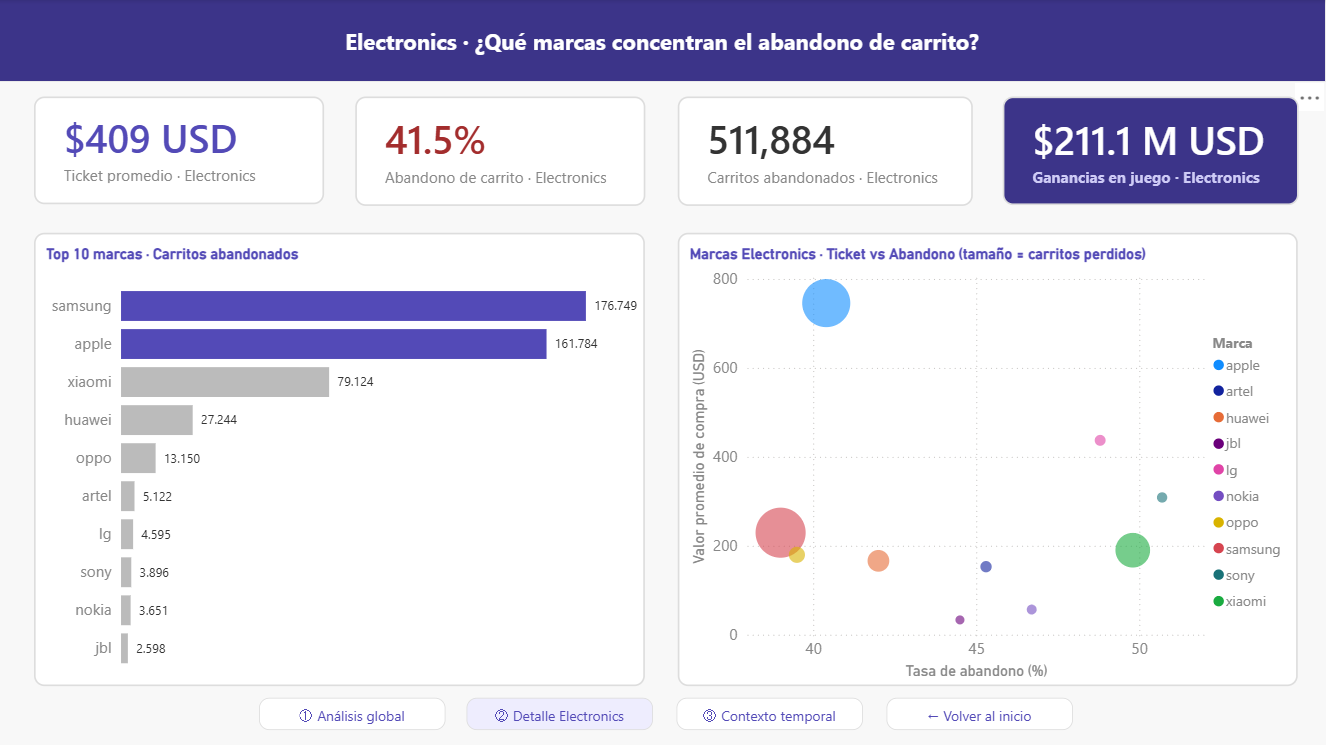

Layout of this report page (visuals, bound fields, positions):
{"tool":"powerbi","page":{"name":"Electronics","canvas":[1280,720],"ordinal":3},"visuals":[{"type":"cardVisual","fields":{"Data":["agg_revenue_en_juego.03_Ticket_electronics"]},"box":[708,148.9,260,103.8],"z":0},{"type":"cardVisual","fields":{"Data":["agg_revenue_en_juego.Revenue Electronics"]},"box":[979,148.9,273.4,103.8],"z":1000},{"type":"clusteredBarChart","title":"Top 10 marcas · Carritos abandonados","fields":{"Category":["agg_marca_electronics.brand"],"Y":["agg_marca_electronics.01_Pct Abandonados Filtrado"]},"box":[133.9,148.4,545,490],"z":2000},{"type":"shape","box":[107.4,0,1172.7,79.6],"z":3000},{"type":"shape","box":[107.4,654.3,1173.1,65.9],"z":4000},{"type":"textbox","box":[917.4,99.7,166.5,30.2],"z":5000},{"type":"shape","box":[917.4,92.4,336.6,44.6],"z":6000},{"type":"slicer","title":"Filtro Top N Categorías","fields":{"Values":["Top N Marcas.Top N Marcas"]},"box":[1068.9,94.1,184.6,41],"z":7000},{"type":"textbox","box":[1050.8,313.7,197.9,36.2],"z":8000},{"type":"shape","box":[0,0,213.6,720.2],"z":9000},{"type":"textbox","box":[3.7,22,96.4,36.6],"z":10000},{"type":"scatterChart","title":"Valor promedio de compra vs Abandono","fields":{"X":["agg_marca_electronics.04_Abandono Filtrado Scatter"],"Series":["agg_marca_electronics.brand"],"Size":["Sum(agg_marca_electronics.abandonados)"],"Y":["agg_marca_electronics.03_Ticket Filtrado"]},"box":[708,261.2,544.4,377.2],"z":11000},{"type":"actionButton","box":[7.3,98.9,90.3,59.8],"z":12000},{"type":"actionButton","box":[7.3,272.2,90.3,61],"z":13000},{"type":"actionButton","box":[7.3,540.8,91.6,61],"z":14000},{"type":"actionButton","box":[7.3,451.7,90.3,61],"z":15000},{"type":"actionButton","box":[7.3,632.3,90.3,59.8],"z":16000},{"type":"actionButton","box":[7.3,361.3,90.3,61],"z":17000},{"type":"actionButton","box":[7.3,184.3,90.3,59.8],"z":18000}]}

Visuals, with their boxes in screenshot pixels (x1, y1, x2, y2), scaled from the page's 1280x720 canvas onto the 1326x745 screenshot:
cardVisual - agg_revenue_en_juego.03_Ticket_electronics: 733/154/1003/261
cardVisual - agg_revenue_en_juego.Revenue Electronics: 1014/154/1297/261
"Top 10 marcas · Carritos abandonados" clusteredBarChart: 139/154/703/661
shape: 111/0/1325/82
shape: 111/677/1325/744
textbox: 950/103/1123/134
shape: 950/96/1299/142
"Filtro Top N Categorías" slicer: 1107/97/1299/140
textbox: 1089/325/1294/362
shape: 0/0/221/744
textbox: 4/23/104/61
"Valor promedio de compra vs Abandono" scatterChart: 733/270/1297/661
actionButton: 8/102/101/164
actionButton: 8/282/101/345
actionButton: 8/560/102/623
actionButton: 8/467/101/531
actionButton: 8/654/101/716
actionButton: 8/374/101/437
actionButton: 8/191/101/253
